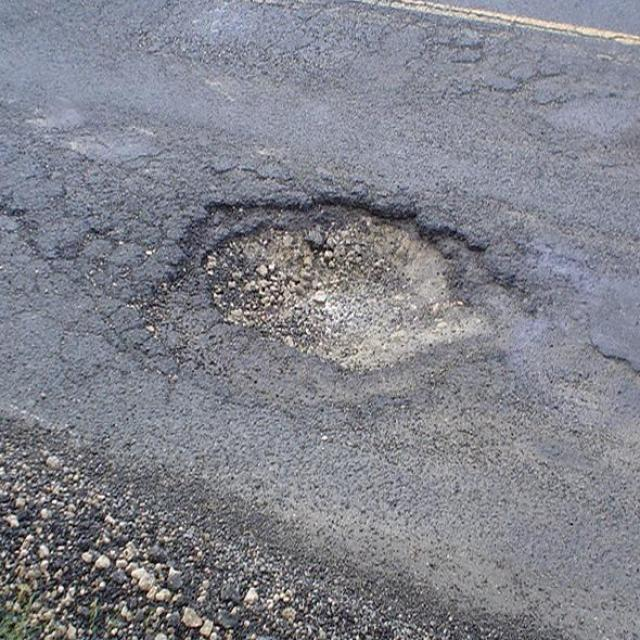Lubang: (172, 194, 529, 373)
